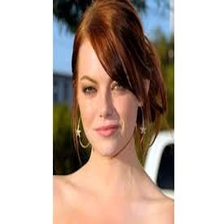no_mask: (76, 39, 130, 155)
